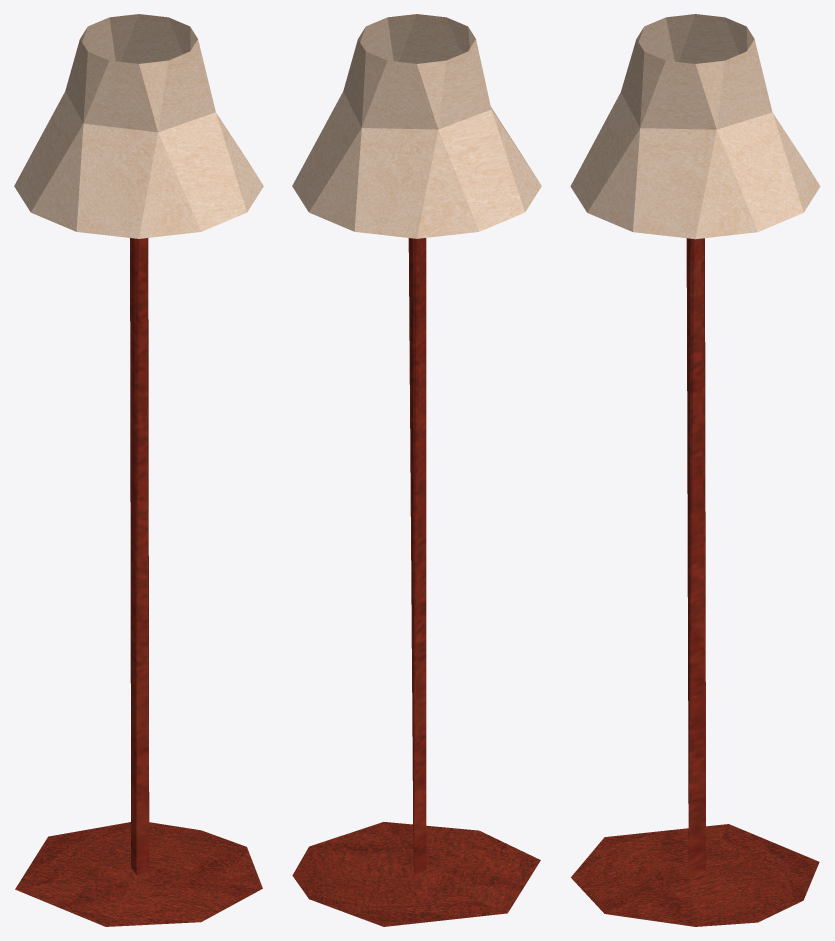
File: tall_lamp_decimated.fbx
3 renders of one model, left to right at view 1: azimuth 30°, elevation 25°; view 2: azimuth 150°, elevation 25°; view 3: azimuth 270°, elevation 25°, orthographic.
Parts seen in each view (by area): view 1: Circle.001; view 2: Circle.001; view 3: Circle.001.
Boxes of the visible parts, left/top/right/bottom form: Circle.001: left=14, top=14, right=263, bottom=926; Circle.001: left=292, top=14, right=541, bottom=926; Circle.001: left=570, top=14, right=820, bottom=926.
Size of the model in its own units: 200 by 741 by 200.
